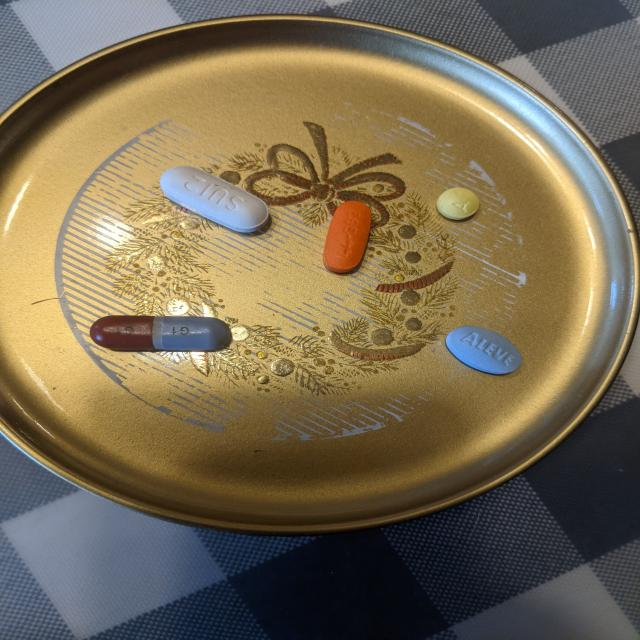non-organic waste: (158, 165, 270, 234), (89, 314, 234, 352), (444, 325, 524, 376), (322, 199, 374, 275), (435, 186, 480, 221)
